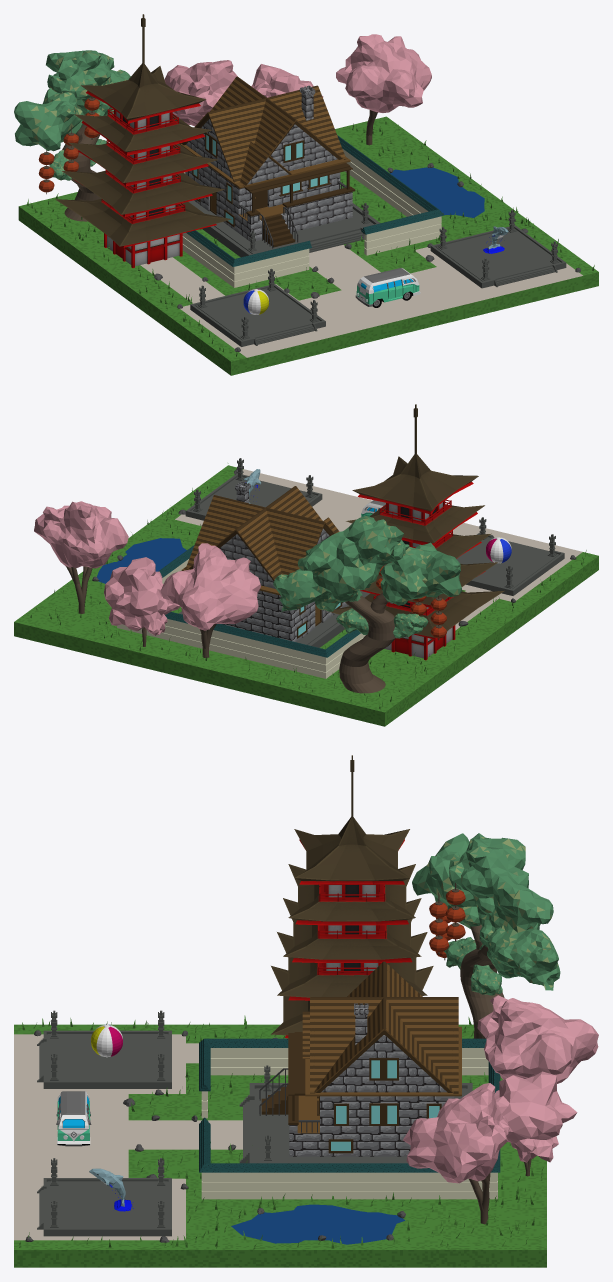
The picture shows the model from 3 angles, top to bottom: view 1: azimuth 30°, elevation 25°; view 2: azimuth 150°, elevation 25°; view 3: azimuth 270°, elevation 25°; orthographic projection. The views are drawn at different scales.
Visible parts, largest first — view 1: Cube.005, Cube.586, VEHICLES_VAN, OBJRANDOM_BEACHBALL; view 2: Cube.005, Cube.586, OBJRANDOM_BEACHBALL; view 3: Cube.005, Cube.586, VEHICLES_VAN, OBJRANDOM_BEACHBALL, ANIMAL_DELFIN.
Boxes of the visible parts, bbox=[...] form: Cube.005: bbox=[14, 14, 598, 375]; Cube.586: bbox=[179, 76, 355, 248]; VEHICLES_VAN: bbox=[355, 268, 420, 307]; OBJRANDOM_BEACHBALL: bbox=[243, 289, 268, 314]; Cube.005: bbox=[14, 404, 598, 726]; Cube.586: bbox=[181, 481, 347, 641]; OBJRANDOM_BEACHBALL: bbox=[486, 537, 511, 563]; Cube.005: bbox=[14, 755, 598, 1267]; Cube.586: bbox=[259, 961, 461, 1156]; VEHICLES_VAN: bbox=[56, 1091, 91, 1146]; OBJRANDOM_BEACHBALL: bbox=[91, 1024, 122, 1057]; ANIMAL_DELFIN: bbox=[89, 1168, 133, 1211].
Size of the model in its own units: 4528 by 2668 by 4389.
41 materials, 6 textured.
